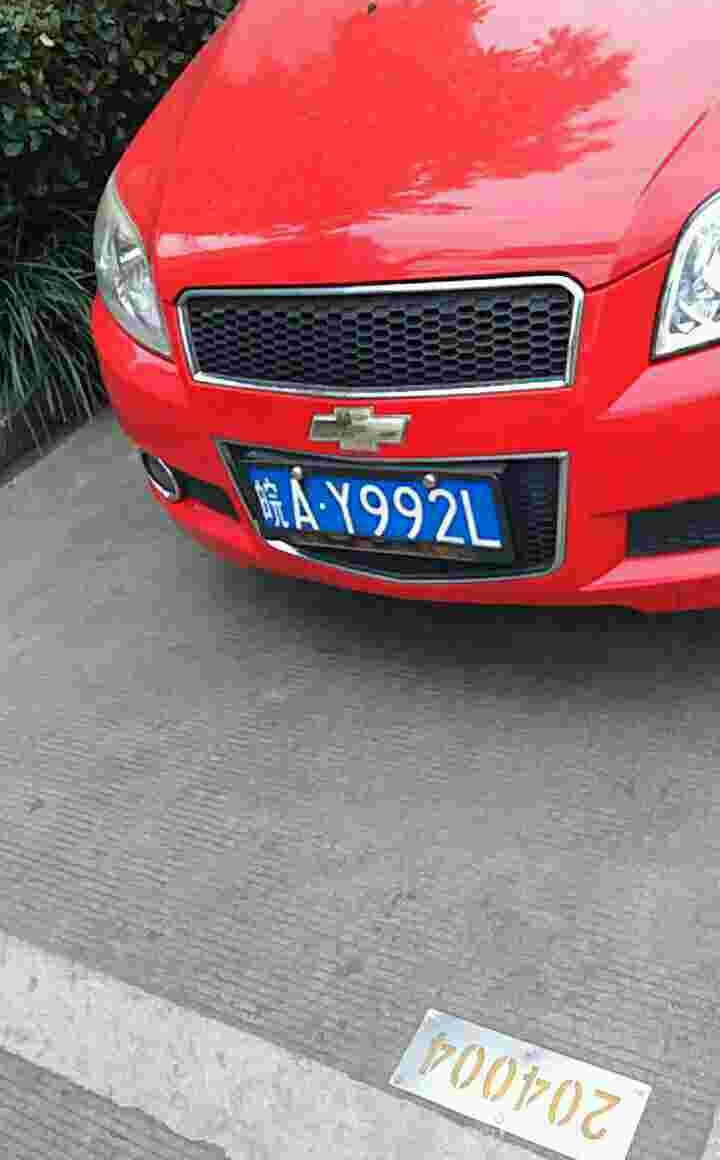license_plate: (247, 462, 501, 556)
